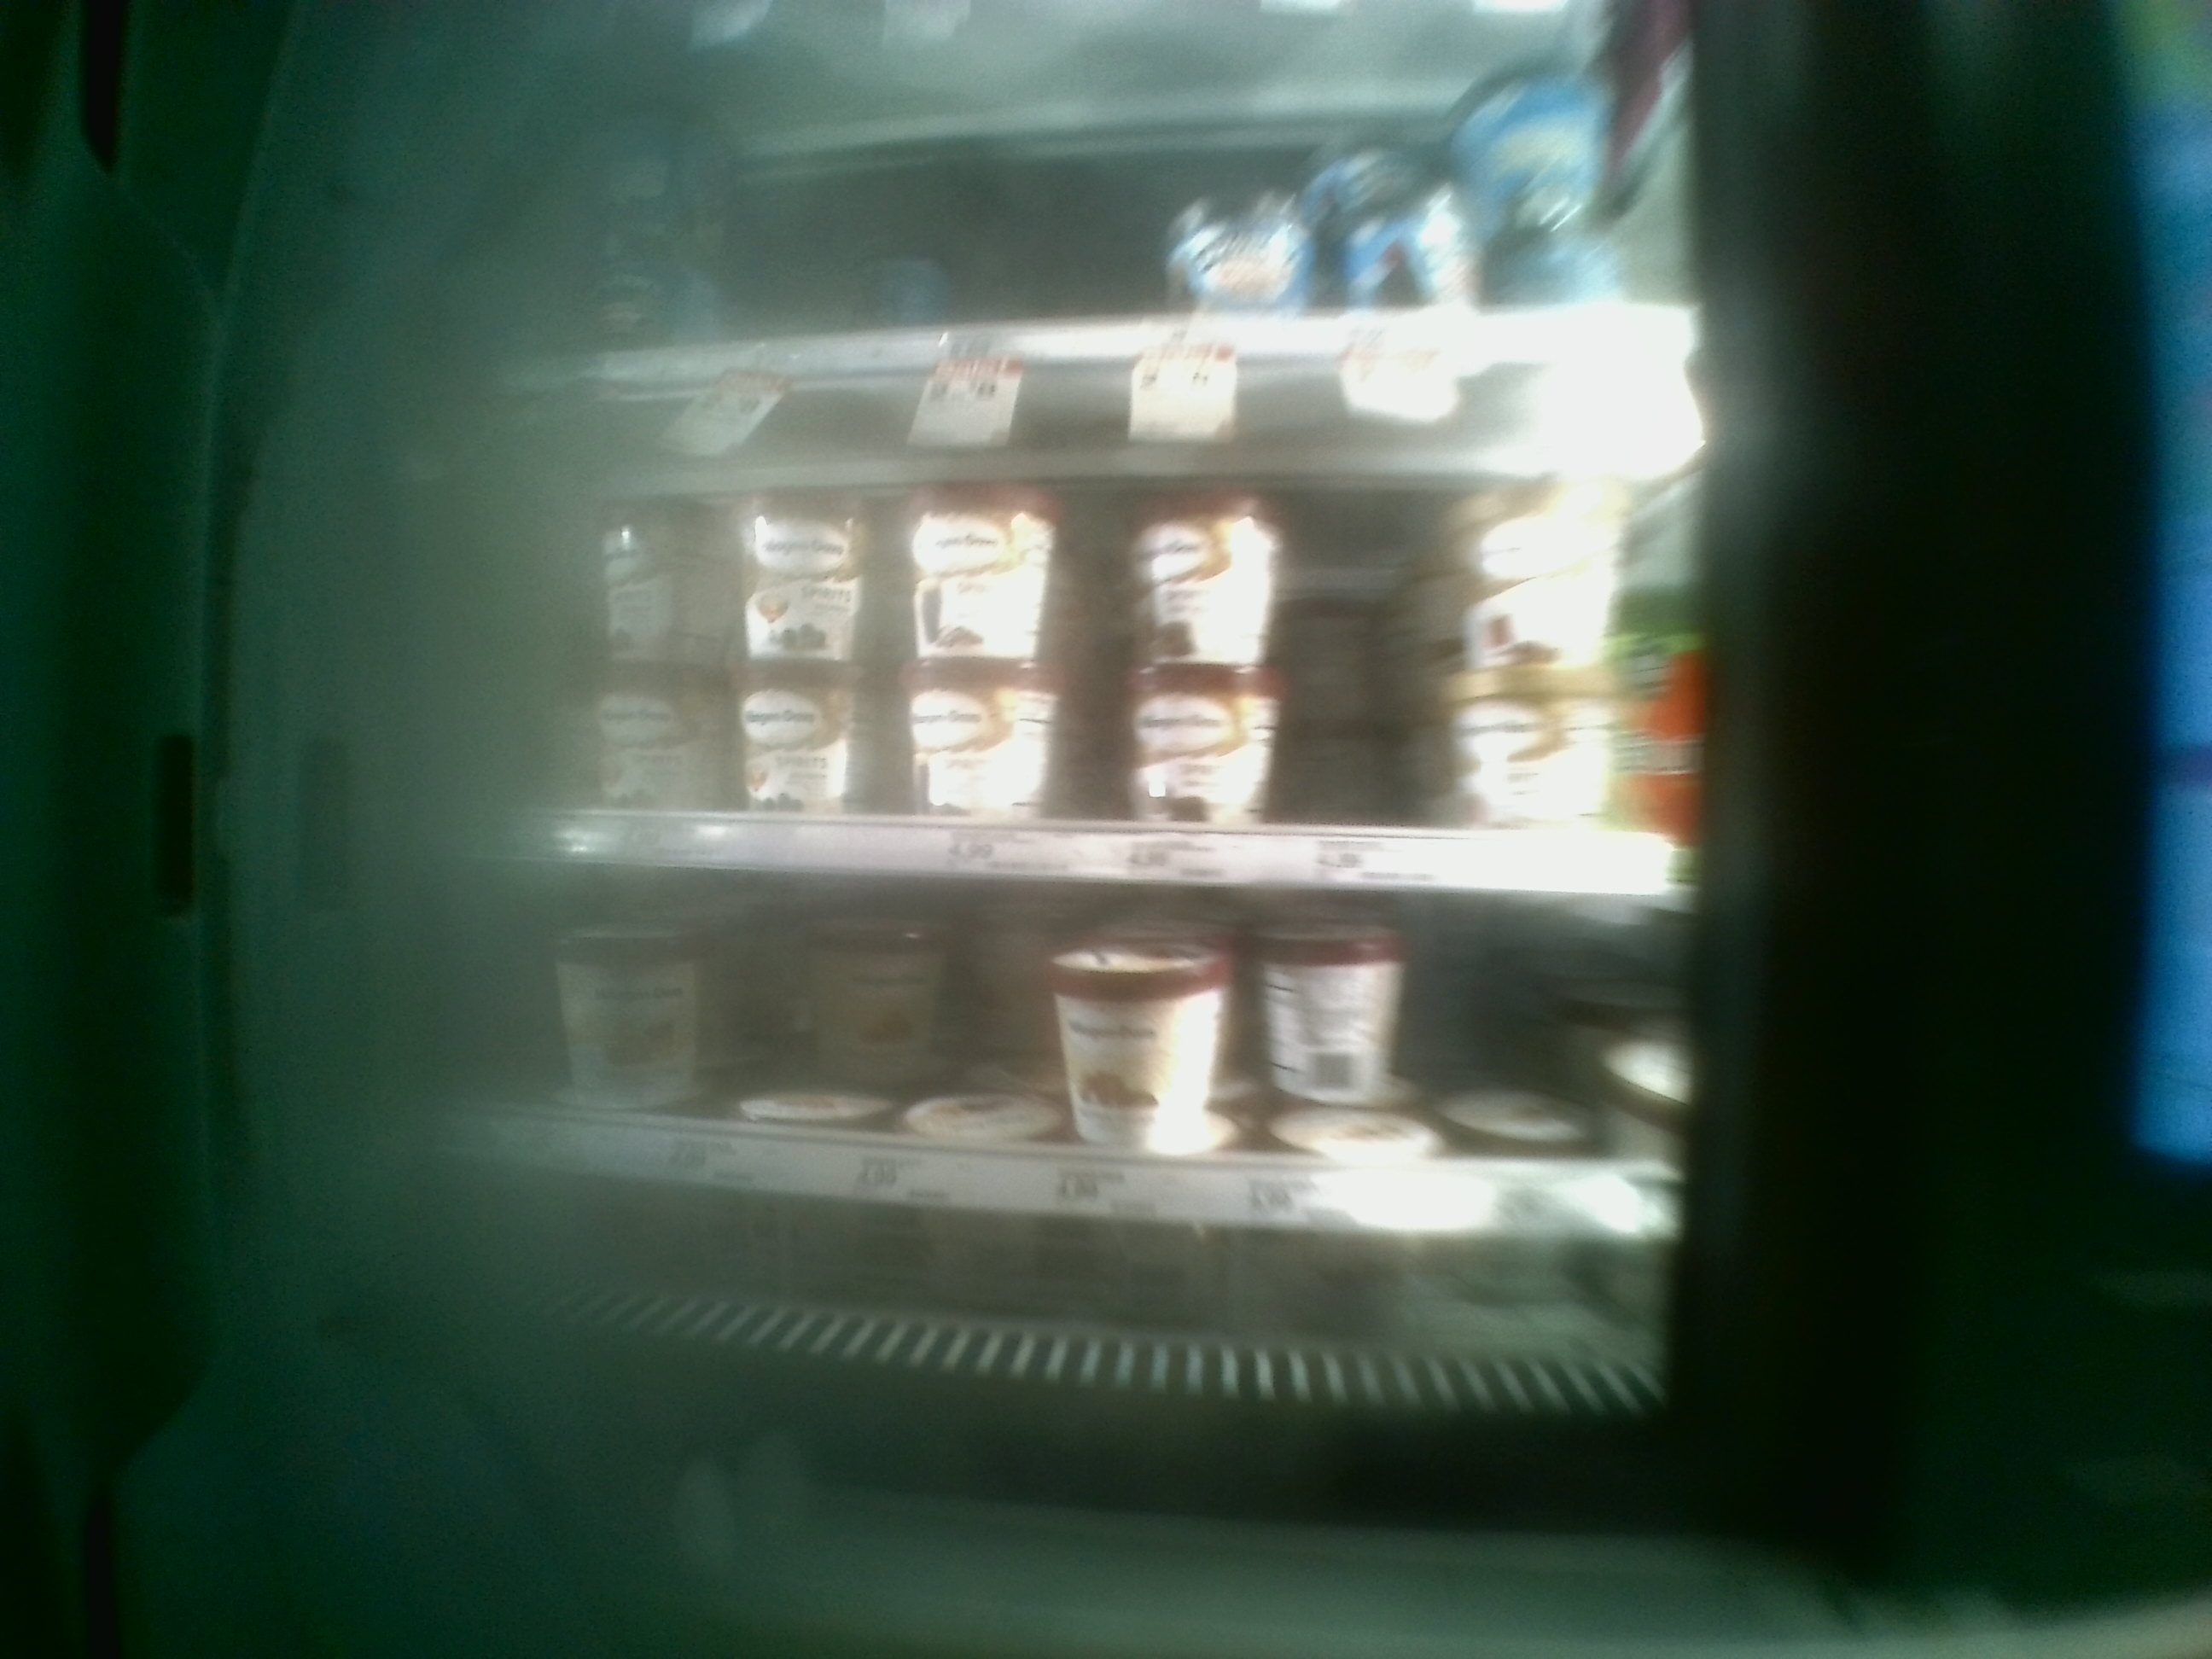shelf: (489, 362, 1679, 899), (486, 884, 1676, 1265)
